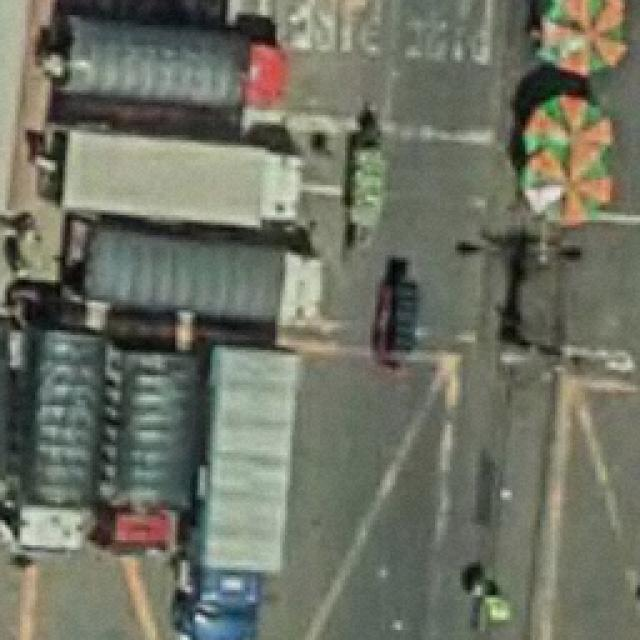vendedor_ambulante: (522, 67, 621, 237), (532, 0, 632, 75)
